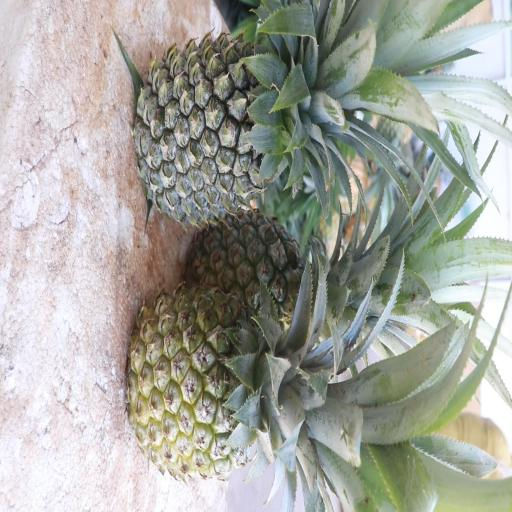------------------------------: (122, 286, 356, 492), (176, 208, 375, 360)
